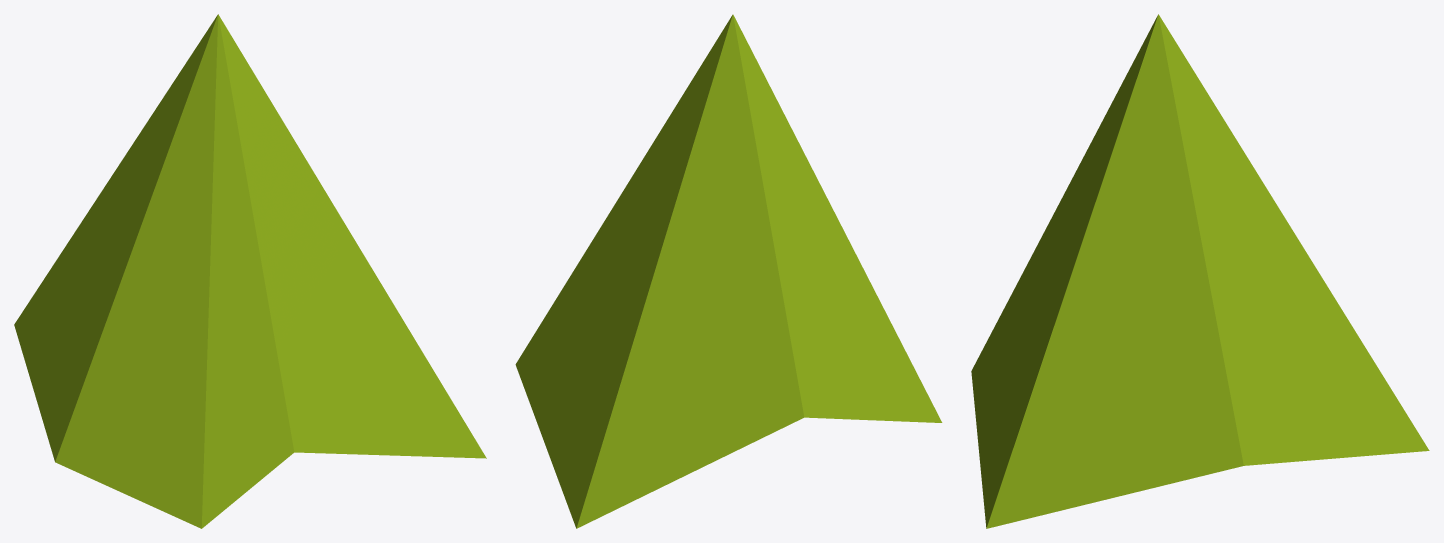
Rendered from Vegetation_Modular_Tree_Foliage_Alpine_Piece_02.fbx.
The picture shows the model from 3 angles, left to right: view 1: azimuth 30°, elevation 25°; view 2: azimuth 150°, elevation 25°; view 3: azimuth 270°, elevation 25°; orthographic projection.
Parts seen in each view (by area): view 1: Vegetation_Modular_Tree_Foliage_Alpine_Piece_02; view 2: Vegetation_Modular_Tree_Foliage_Alpine_Piece_02; view 3: Vegetation_Modular_Tree_Foliage_Alpine_Piece_02.
Boxes of the visible parts, x1,y1,x2,y2 form: Vegetation_Modular_Tree_Foliage_Alpine_Piece_02: (14,14,486,528); Vegetation_Modular_Tree_Foliage_Alpine_Piece_02: (515,14,942,528); Vegetation_Modular_Tree_Foliage_Alpine_Piece_02: (971,14,1429,528).
Bounding box in the file's own units: 58.61 × 64.52 × 62.92.
